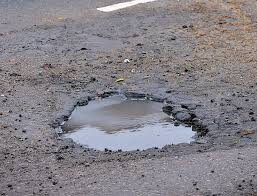pothole: (34, 78, 222, 160)
